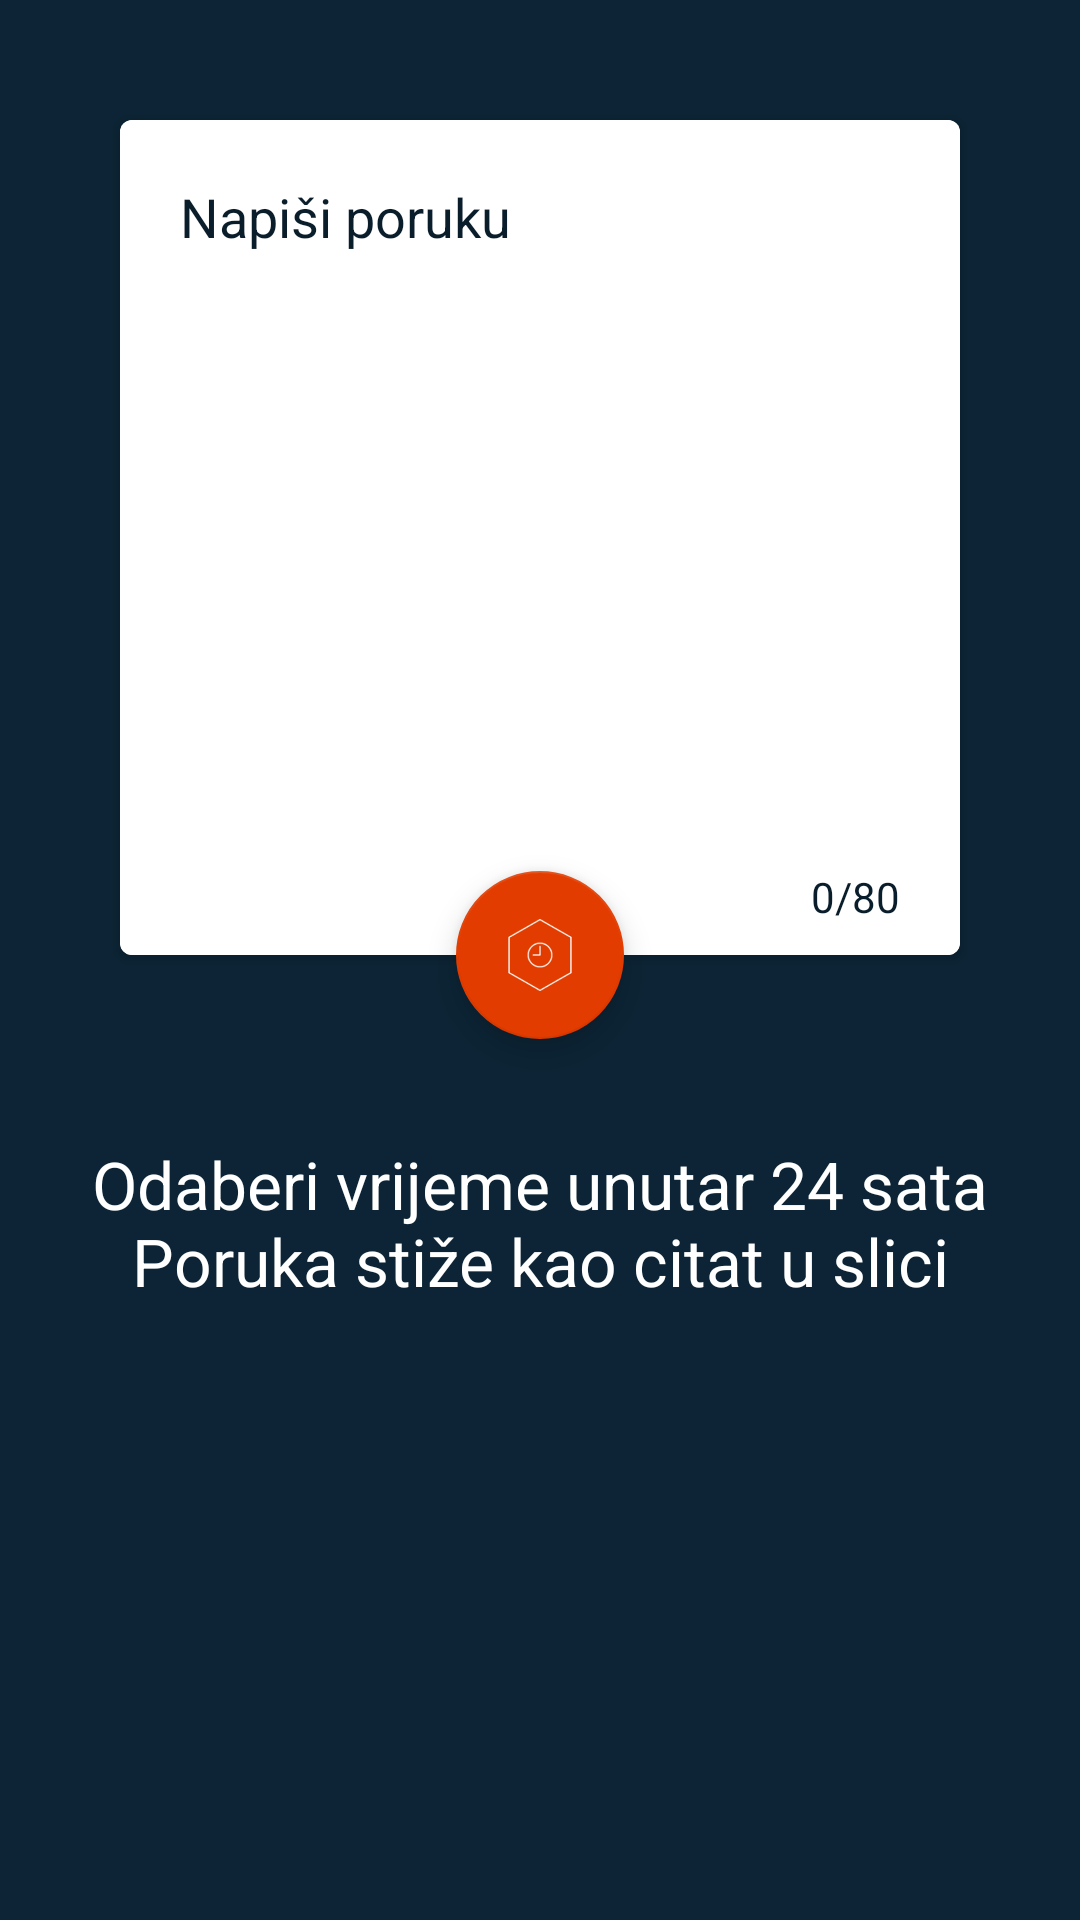

Icons on this 1080w x 1920h Android screen, each with the point to tap as [x,y]:
hexaclock: [540,955]
